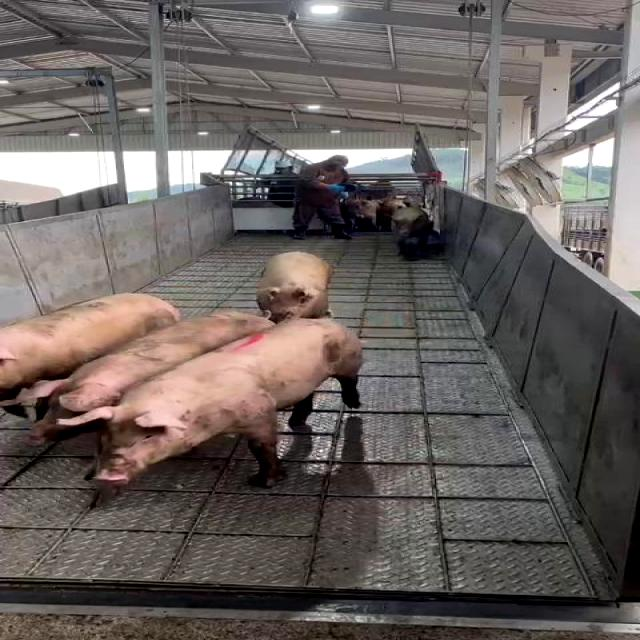pig: (60, 319, 362, 496), (30, 310, 275, 413), (0, 294, 179, 389), (259, 251, 332, 322), (392, 202, 433, 260)
